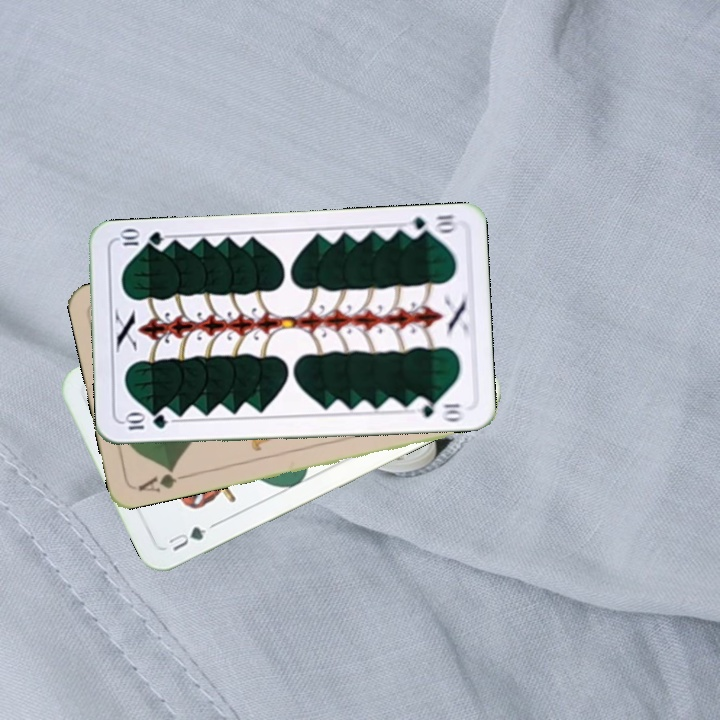G10: (401, 210, 460, 239), (120, 411, 170, 433)
GA: (134, 462, 191, 495)
GU: (164, 522, 209, 554)
